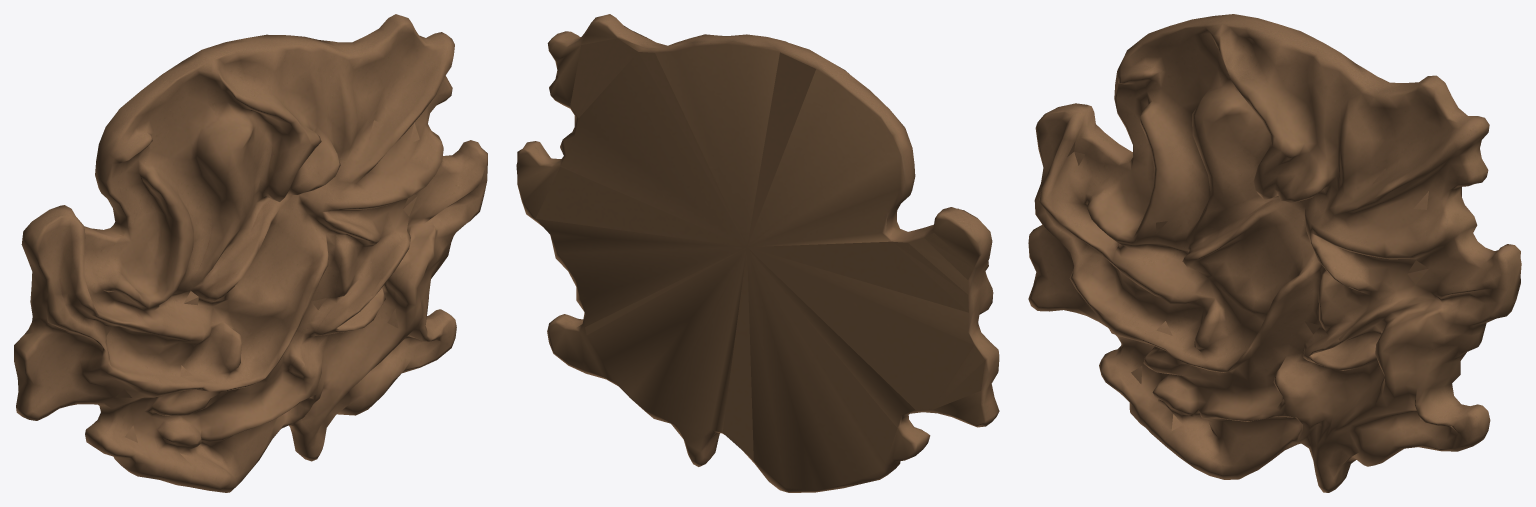
File: Meshy_AI_Crumpled_Paper_Study_0822130946_texture.fbx
The picture shows the model from 3 angles, left to right: view 1: azimuth 30°, elevation 25°; view 2: azimuth 150°, elevation 25°; view 3: azimuth 330°, elevation 25°; orthographic projection. The views are drawn at different scales.
Visible parts, largest first — view 1: mesh_node; view 2: mesh_node; view 3: mesh_node.
Boxes of the visible parts, bbox=[...] form: mesh_node: bbox=[14, 14, 487, 492]; mesh_node: bbox=[516, 14, 999, 492]; mesh_node: bbox=[1028, 14, 1521, 492].
Size of the model in its own units: 100 by 90.23 by 14.26.
1 material, 1 textured.
